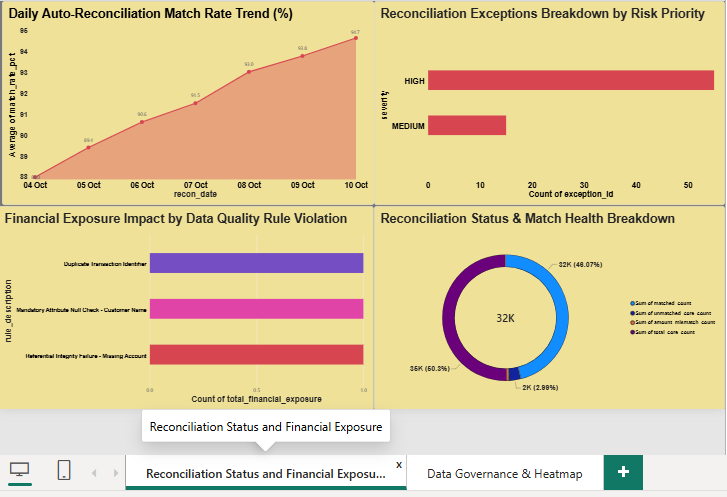

What the dashboard file says about the page in this screenshot:
{"tool":"powerbi","page":{"name":"Reconciliation Status and Financial Exposure","canvas":[1920,1080],"ordinal":0},"visuals":[{"type":"donutChart","title":"Reconciliation Status & Match Health Breakdown","fields":{"Y":["Sum(audit recon_daily_summary.matched_count)","Sum(audit recon_daily_summary.unmatched_core_count)","Sum(audit recon_daily_summary.amount_mismatch_count)","Sum(audit recon_daily_summary.total_core_count)"]},"box":[992.8,541.7,927.2,539.2],"z":0},{"type":"barChart","title":"Reconciliation Exceptions Breakdown by Risk Priority","fields":{"Category":["audit v_open_exceptions_queue.severity"],"Y":["Count(audit v_open_exceptions_queue.exception_id)"]},"box":[992.8,0,927.2,539.2],"z":1000},{"type":"areaChart","title":"Daily Auto-Reconciliation Match Rate Trend (%)","fields":{"Category":["audit v_recon_executive_kpis.recon_date"],"Y":["Avg(audit v_recon_executive_kpis.match_rate_pct)"]},"box":[10.1,0,982.7,539.2],"z":2000},{"type":"clusteredBarChart","title":"Financial Exposure Impact by Data Quality Rule Violation","fields":{"Category":["audit v_financial_exposure_breakdown.rule_description"],"Y":["CountNonNull(audit v_financial_exposure_breakdown.total_financial_exposure)"]},"box":[0,541.7,992,540],"z":3000}]}

Visuals, with their boxes on the page's 1920x1080 design canvas (x1, y1, x2, y2). These are canvas units, not pixel positions in the 727x497 screenshot, which may show the page scaled, cropped or inside an application window:
"Reconciliation Status & Match Health Breakdown" donutChart: x1=993 y1=542 x2=1920 y2=1081
"Reconciliation Exceptions Breakdown by Risk Priority" barChart: x1=993 y1=0 x2=1920 y2=539
"Daily Auto-Reconciliation Match Rate Trend (%)" areaChart: x1=10 y1=0 x2=993 y2=539
"Financial Exposure Impact by Data Quality Rule Violation" clusteredBarChart: x1=0 y1=542 x2=992 y2=1082
